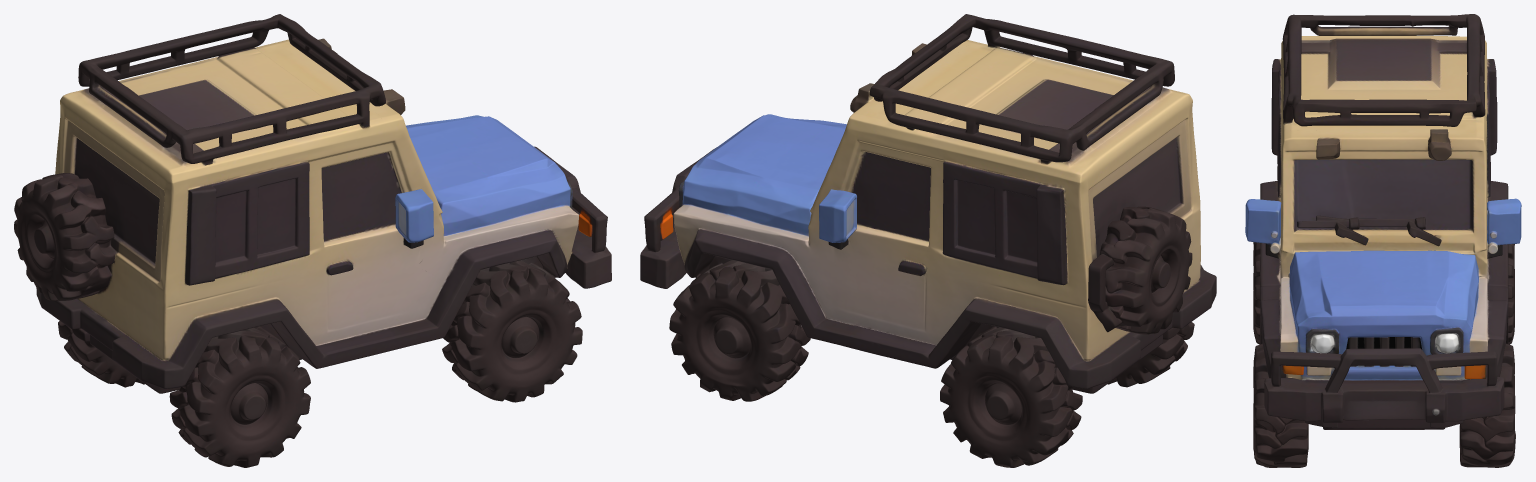
Rendered from Savanna_Obs_Jeep.glb.
The picture shows the model from 3 angles, left to right: view 1: azimuth 30°, elevation 25°; view 2: azimuth 150°, elevation 25°; view 3: azimuth 270°, elevation 25°; orthographic projection. The views are drawn at different scales.
Visible parts, largest first — view 1: tripo_node_cd988d27-30a3-4495-a64d-b71229f3c47f; view 2: tripo_node_cd988d27-30a3-4495-a64d-b71229f3c47f; view 3: tripo_node_cd988d27-30a3-4495-a64d-b71229f3c47f.
Part boxes in pixels (left/top/right/bottom): tripo_node_cd988d27-30a3-4495-a64d-b71229f3c47f: left=14, top=14, right=611, bottom=467; tripo_node_cd988d27-30a3-4495-a64d-b71229f3c47f: left=640, top=14, right=1216, bottom=467; tripo_node_cd988d27-30a3-4495-a64d-b71229f3c47f: left=1245, top=14, right=1521, bottom=467.
Bounding box in the file's own units: 1 × 0.6347 × 0.5217.
Materials: 1 (1 with a texture image).
